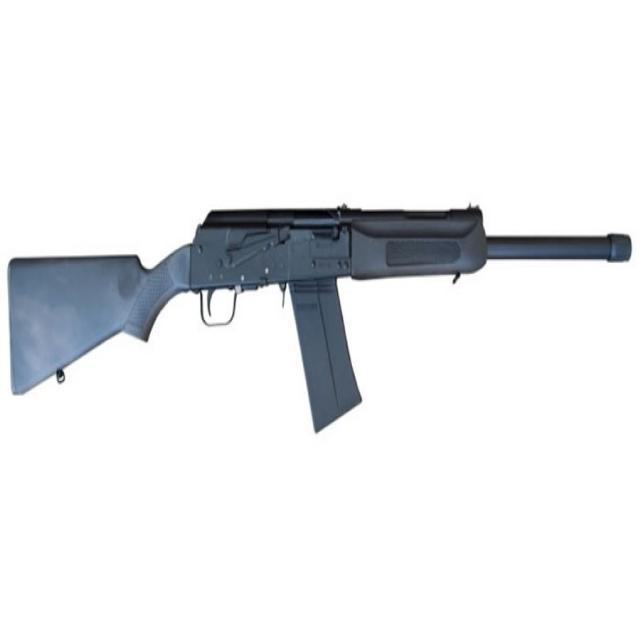Rifle: (8, 201, 632, 437)
